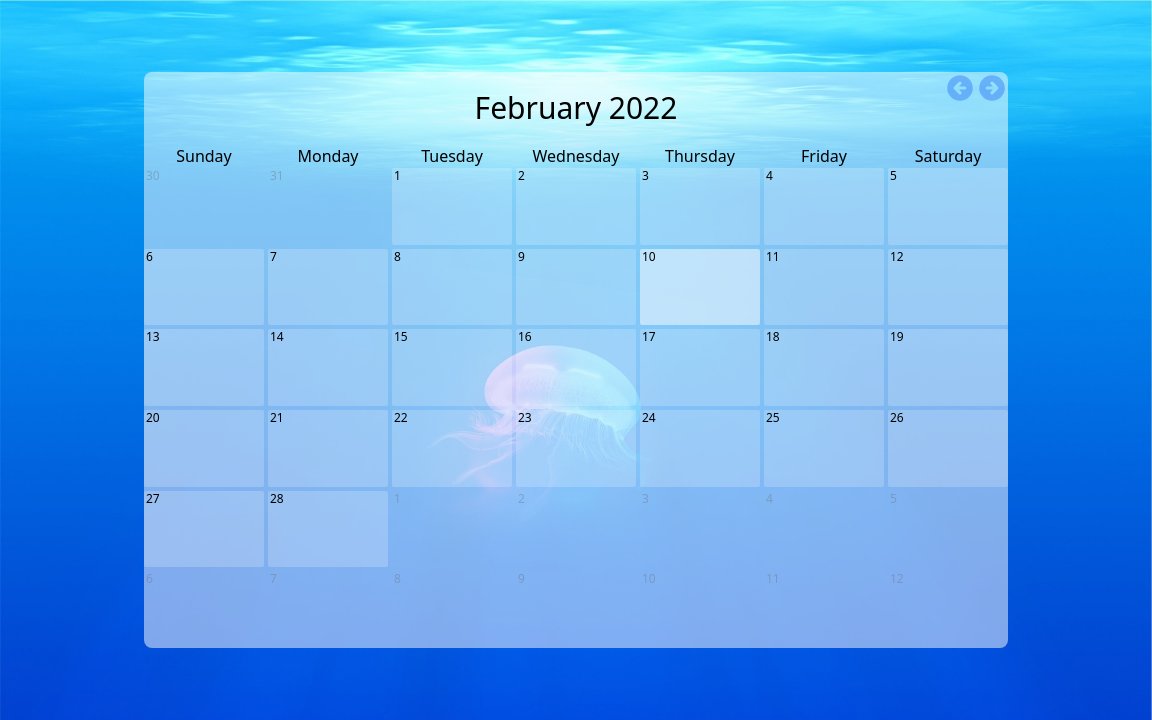
Actions › adds an event
This screenshot has width=1152, height=720.
Click the 1st element showing "10" at (700, 288), box [640,249,760,326]
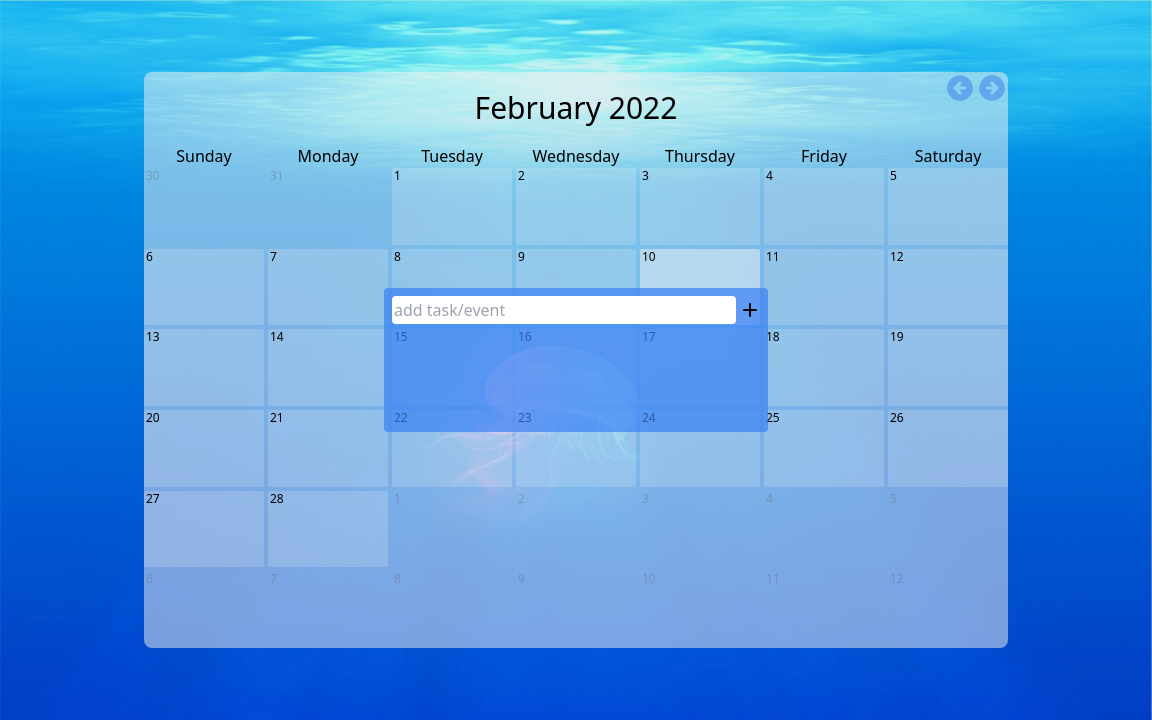
Type "test123" into the field with placeholder "add task/event" at (564, 310), box [392,296,736,324]
Then press Enter
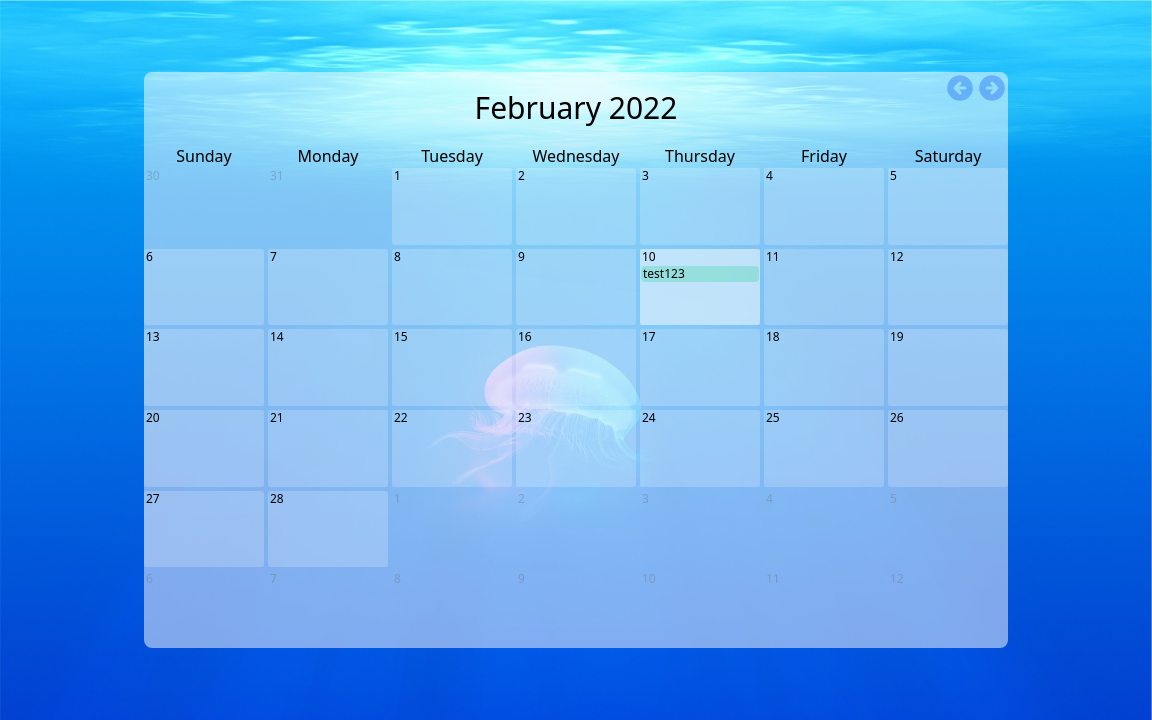
Now the text "test" reads "test123", box [643,265,685,282]
